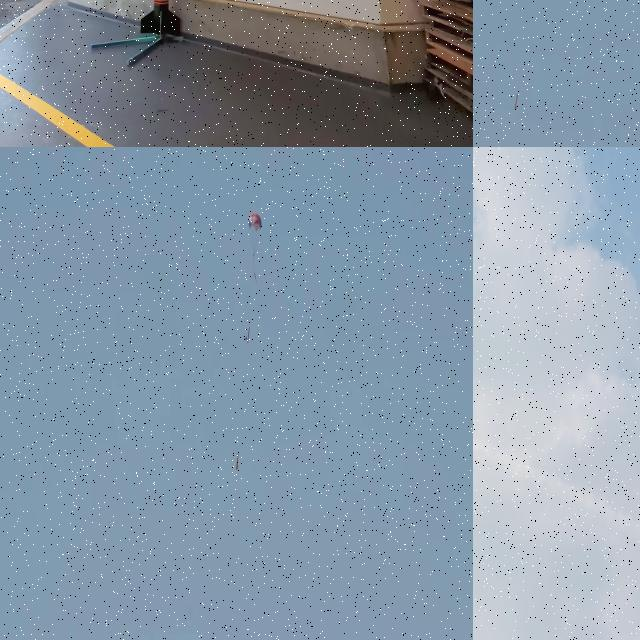Rocket: (140, 0, 181, 38), (514, 93, 519, 110), (236, 454, 239, 469)
